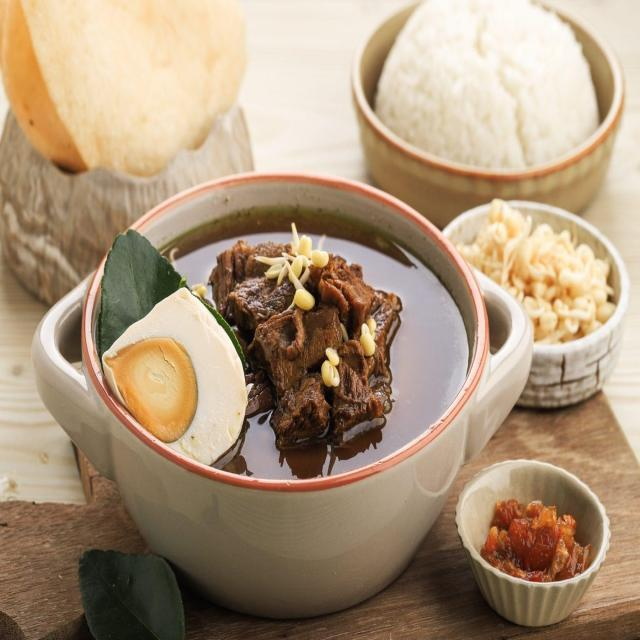Rawon: (104, 202, 473, 486)
